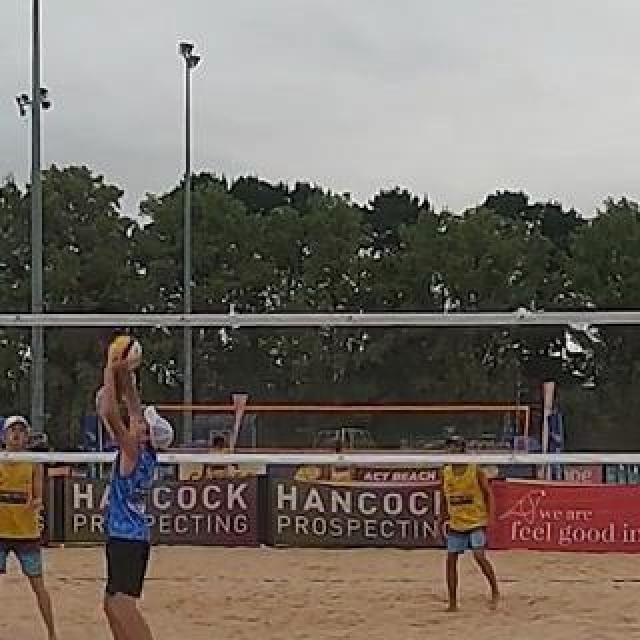volleyball: (108, 335, 142, 371)
